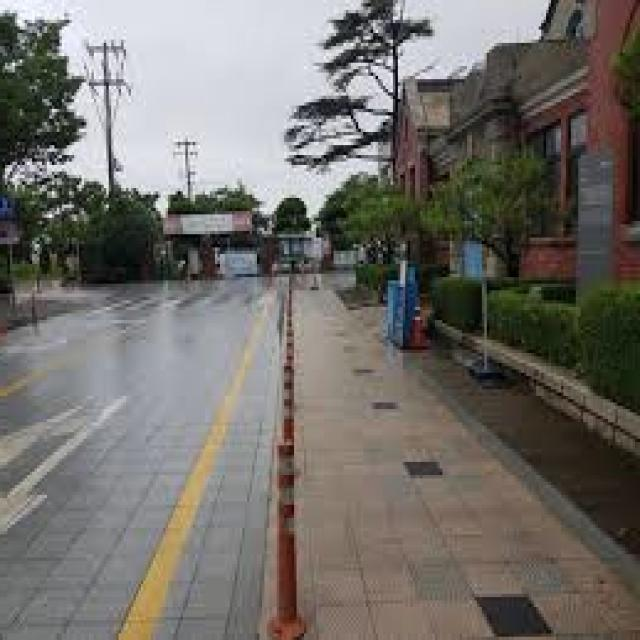bollard: (266, 433, 298, 640), (278, 358, 301, 436), (280, 336, 300, 366)
